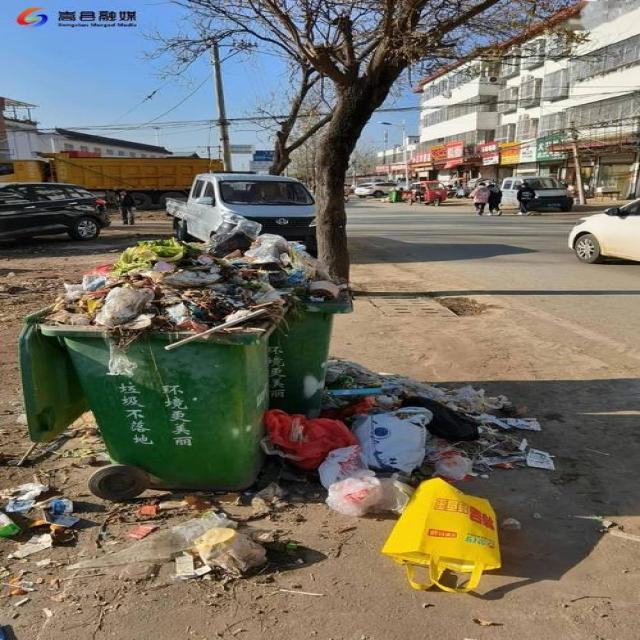garbage: (0, 358, 554, 591)
overflow: (19, 236, 270, 490), (257, 234, 356, 412)
